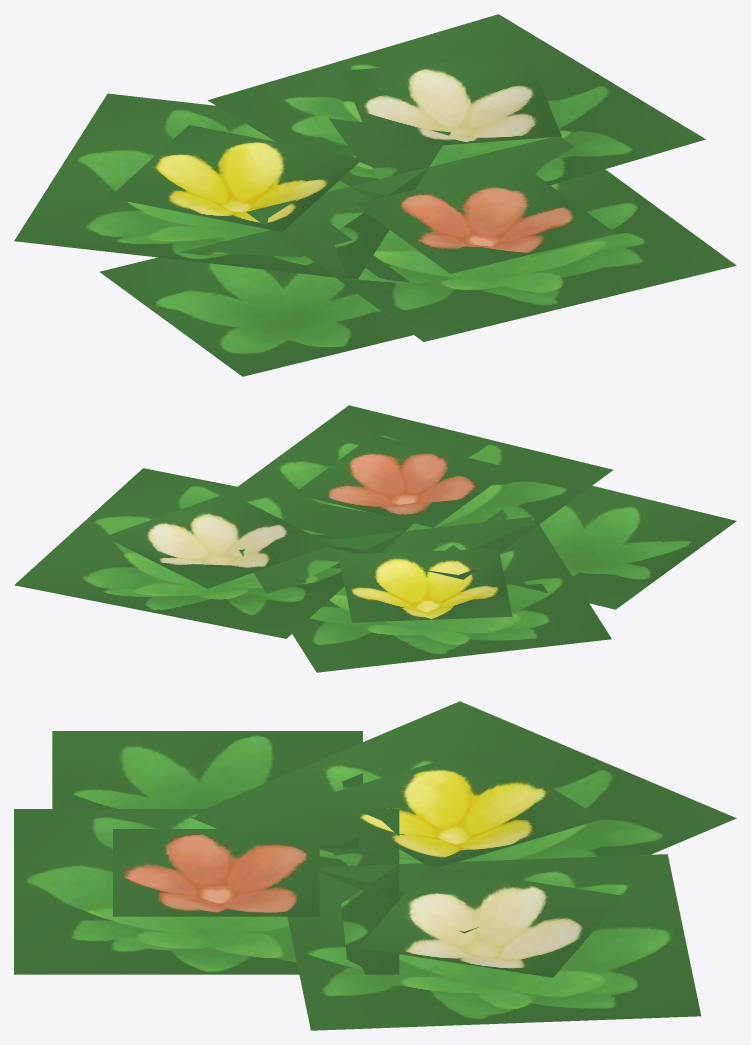
File: 0159_T_ZhenYin_Hua01.glb
3 views of the same model, one above another, from view 1: azimuth 30°, elevation 25°; view 2: azimuth 150°, elevation 25°; view 3: azimuth 270°, elevation 25° (orthographic). The views are drawn at different scales.
Bounding box in the file's own units: 2.2 × 0.1934 × 2.04.
1 material, 1 textured.
